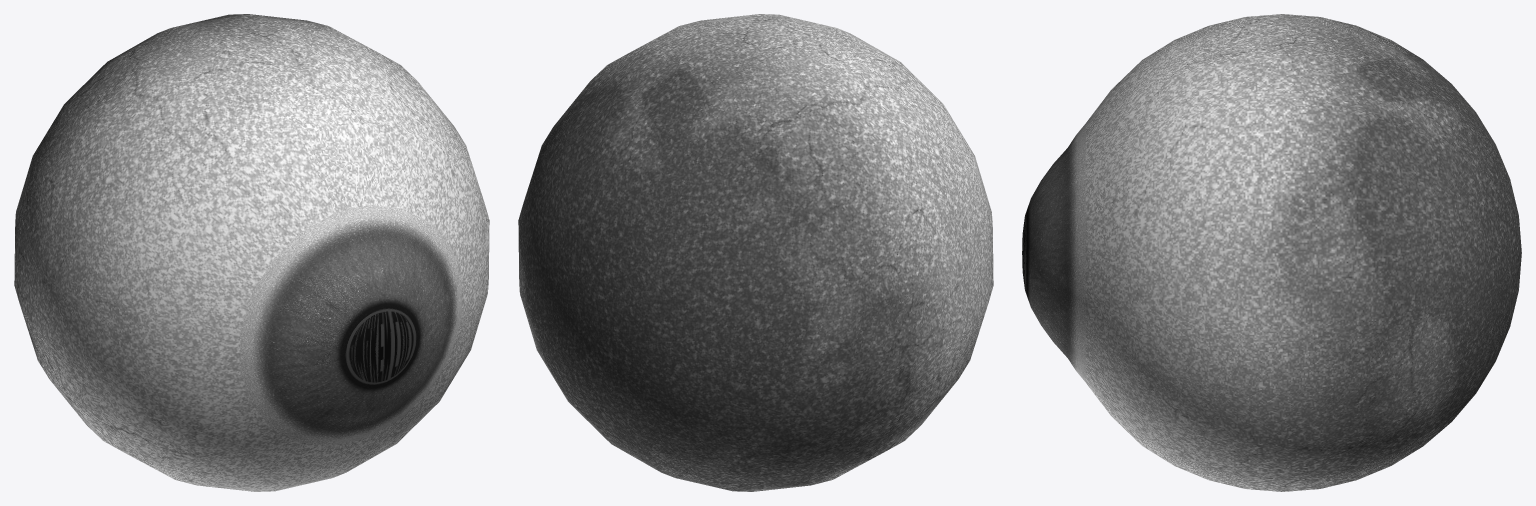
The model's file is 3d_eye.glb.
3 views of the same model, side by side, from view 1: azimuth 30°, elevation 25°; view 2: azimuth 150°, elevation 25°; view 3: azimuth 270°, elevation 25° (orthographic).
Visible parts, largest first — view 1: eye_low.001; view 2: eye_low.001; view 3: eye_low.001.
Boxes of the visible parts, <box> form: eye_low.001: <box>14,14,489,491</box>; eye_low.001: <box>518,14,993,491</box>; eye_low.001: <box>1022,14,1521,491</box>.
Size of the model in its own units: 0.0224 by 0.0224 by 0.0237.
1 material, 1 textured.
